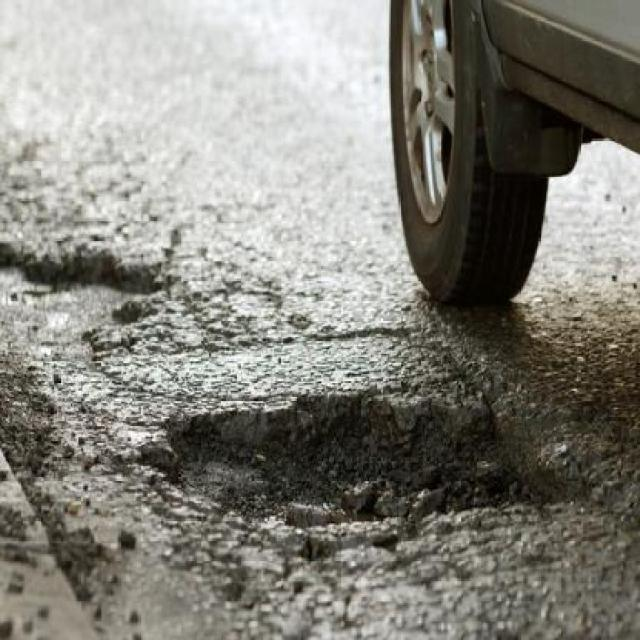Pothole: (141, 376, 588, 536), (0, 215, 169, 348)
